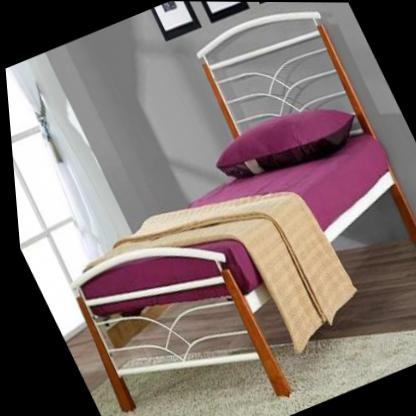Bed: (67, 11, 416, 415)
Carpet: (120, 360, 269, 416)
Wooden floor: (304, 238, 416, 341)
